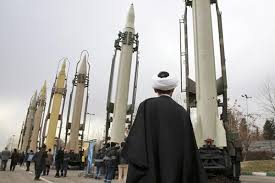ten_lua: (111, 1, 136, 147), (70, 52, 91, 161)
